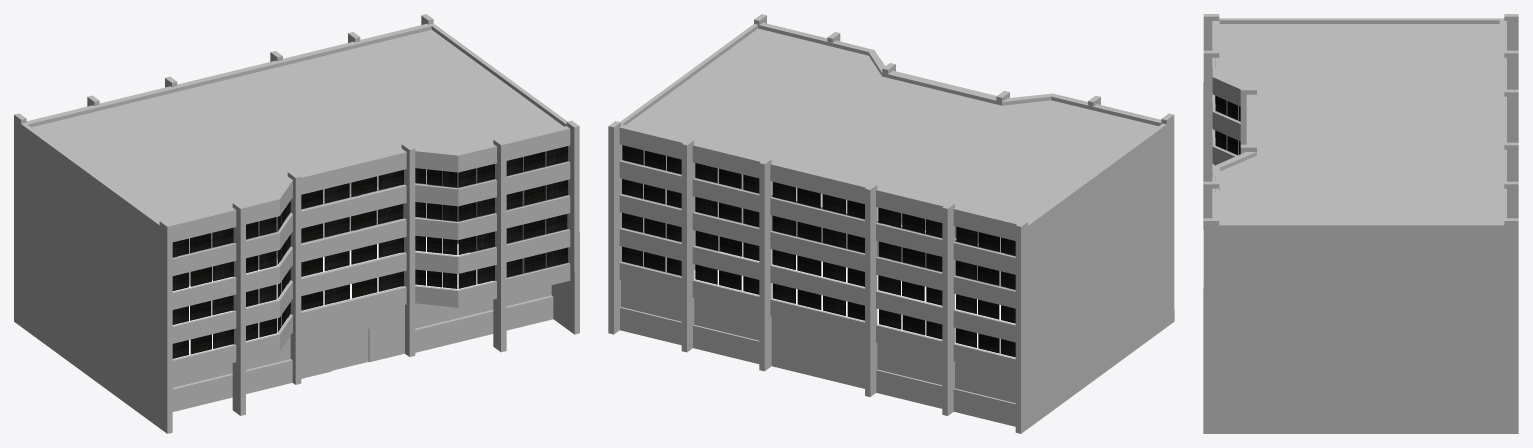
3 views of the same model, side by side, from view 1: azimuth 30°, elevation 25°; view 2: azimuth 150°, elevation 25°; view 3: azimuth 270°, elevation 25° (orthographic). The views are drawn at different scales.
Parts seen in each view (by area): view 1: BB-074; view 2: BB-074; view 3: BB-074.
Boxes of the visible parts, left/top/right/bottom form: BB-074: left=14, top=14, right=579, bottom=433; BB-074: left=608, top=14, right=1174, bottom=433; BB-074: left=1203, top=14, right=1518, bottom=433.
Size of what is drawn, in the model's own units: 38.3 by 18.37 by 24.67.
